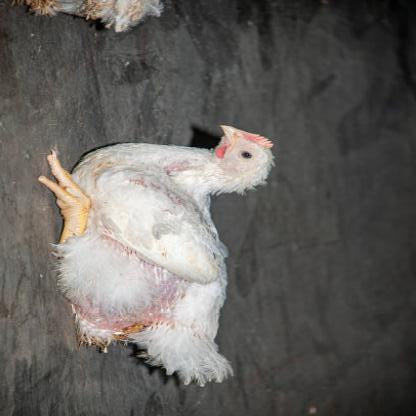Unhealthy: (29, 118, 279, 392)
